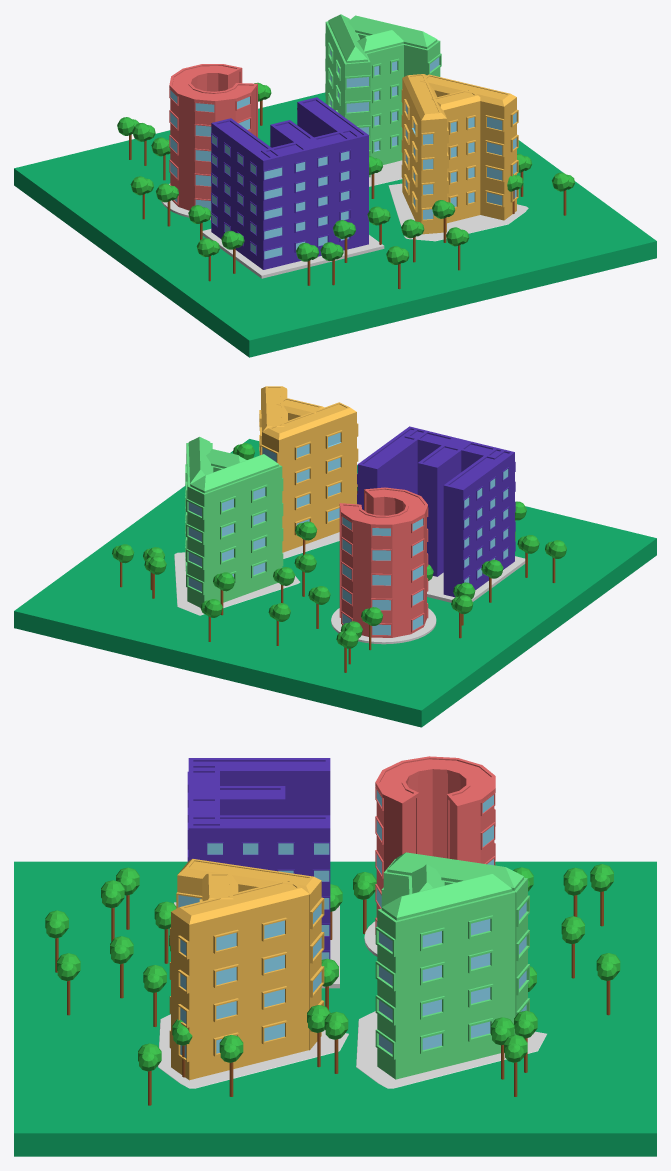
Rendered from Low poly buildings.fbx.
3 renders of one model, top to bottom at view 1: azimuth 30°, elevation 25°; view 2: azimuth 150°, elevation 25°; view 3: azimuth 270°, elevation 25°, orthographic. The views are drawn at different scales.
Visible parts, largest first — view 1: Cube_2, Cube_4, Cube_3_3, Cube_3_2, Tube, Cap_1, Cube, Cap_1_2; view 2: Cube_2, Cube_4, Cube_3_2, Tube, Cube_3_3, Cube, Cylinder, Cap_2_2, Cap_1_2; view 3: Cube_2, Cube_3_2, Cube_3_3, Cube_4, Tube, Cap_1_2, Cap_1, Cap_2_2, Cap_2, Cube.
Boxes of the visible parts, bbox=[...] form: Cube_2: bbox=[14, 92, 656, 357]; Cube_4: bbox=[211, 97, 368, 269]; Cube_3_3: bbox=[401, 74, 518, 234]; Cube_3_2: bbox=[325, 14, 441, 177]; Tube: bbox=[169, 64, 257, 212]; Cap_1: bbox=[391, 185, 528, 240]; Cube: bbox=[202, 229, 384, 278]; Cap_1_2: bbox=[369, 160, 402, 186]; Cube_2: bbox=[14, 439, 656, 727]; Cube_4: bbox=[357, 426, 515, 597]; Cube_3_2: bbox=[185, 436, 283, 607]; Tube: bbox=[339, 487, 428, 637]; Cube_3_3: bbox=[259, 386, 358, 552]; Cube: bbox=[427, 556, 525, 602]; Cylinder: bbox=[331, 608, 436, 644]; Cap_2_2: bbox=[174, 554, 297, 615]; Cap_1_2: bbox=[176, 552, 299, 612]; Cube_2: bbox=[14, 861, 656, 1156]; Cube_3_2: bbox=[375, 852, 529, 1079]; Cube_3_3: bbox=[169, 859, 324, 1080]; Cube_4: bbox=[187, 758, 330, 959]; Tube: bbox=[375, 756, 495, 934]; Cap_1_2: bbox=[356, 1011, 540, 1087]; Cap_1: bbox=[158, 1014, 339, 1087]; Cap_2_2: bbox=[362, 1021, 546, 1087]; Cap_2: bbox=[164, 1023, 348, 1087]; Cube: bbox=[174, 902, 339, 988].
Size of the model in its own units: 2108 by 718 by 2108.
